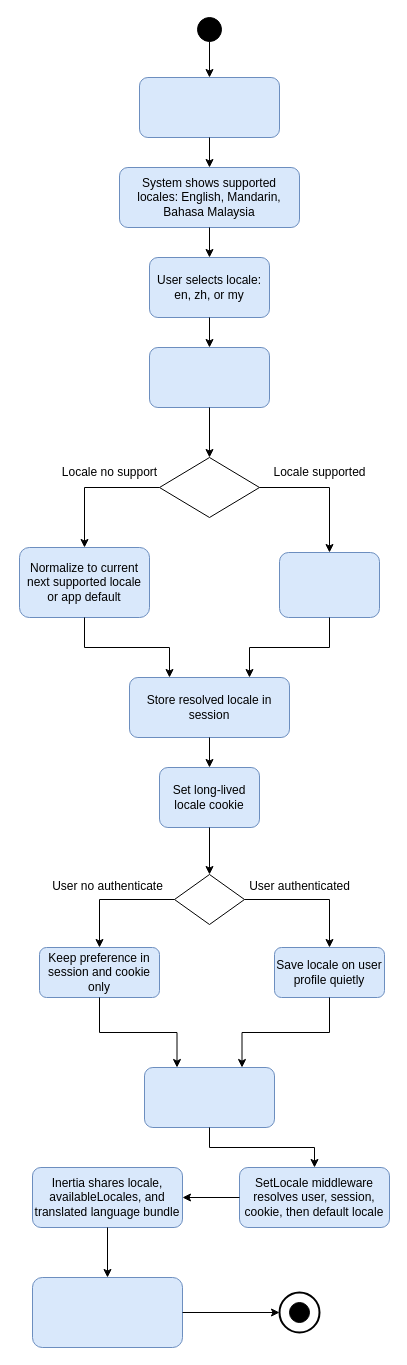
Some shapes in this 407 by 1365 pixel diagram are drawn without their labels. The shapes that lost their labels are listed below. From the top down, each one's centre as x and y in pixels, then its label:
At point 209,107: "User opens language selector in header".
At point 209,377: "Submit locale to change language route".
At point 329,585: "Use selected locale".
At point 209,1097: "Redirect back to previous page".
At point 107,1312: "Header, sidebar, admin layout, and page text remount using new locale".
